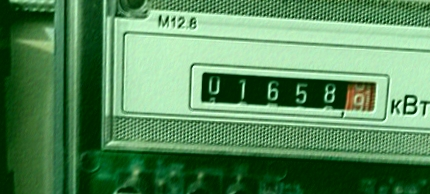0: (208, 74, 222, 96)
1: (238, 78, 249, 100)
5: (295, 81, 310, 105)
6: (266, 79, 281, 102)
8: (323, 81, 338, 104)
9: (350, 92, 365, 113)
screen: (183, 58, 397, 126)
